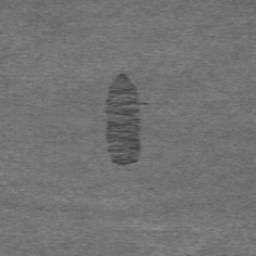Secondary rust skin: (103, 72, 151, 167)
